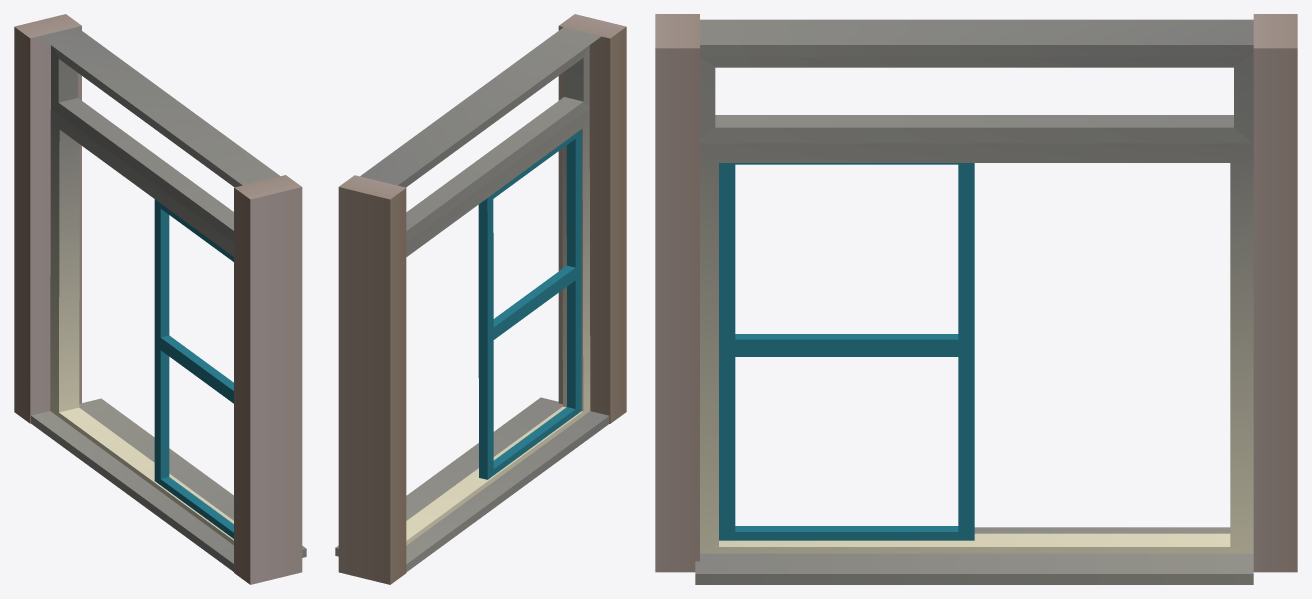
The model's file is B03_cadre_porte_Superette.fbx.
3 renders of one model, left to right at view 1: azimuth 30°, elevation 25°; view 2: azimuth 150°, elevation 25°; view 3: azimuth 270°, elevation 25°, orthographic. The views are drawn at different scales.
Visible parts, largest first — view 1: B03_cadre_porte_Superette; view 2: B03_cadre_porte_Superette; view 3: B03_cadre_porte_Superette.
Part boxes in pixels (<box>): B03_cadre_porte_Superette: <box>14,14,306,584</box>; B03_cadre_porte_Superette: <box>335,14,626,584</box>; B03_cadre_porte_Superette: <box>655,14,1297,584</box>.
Bounding box in the file's own units: 86.84 × 450 × 500.
